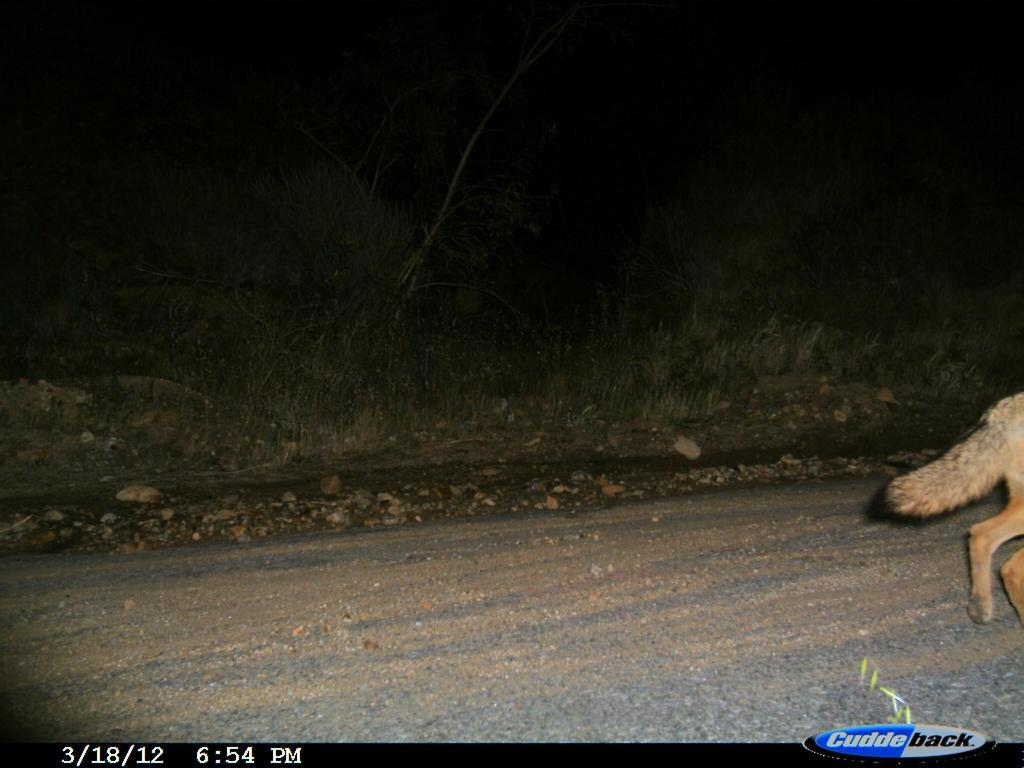coyote: (866, 363, 1023, 628)
